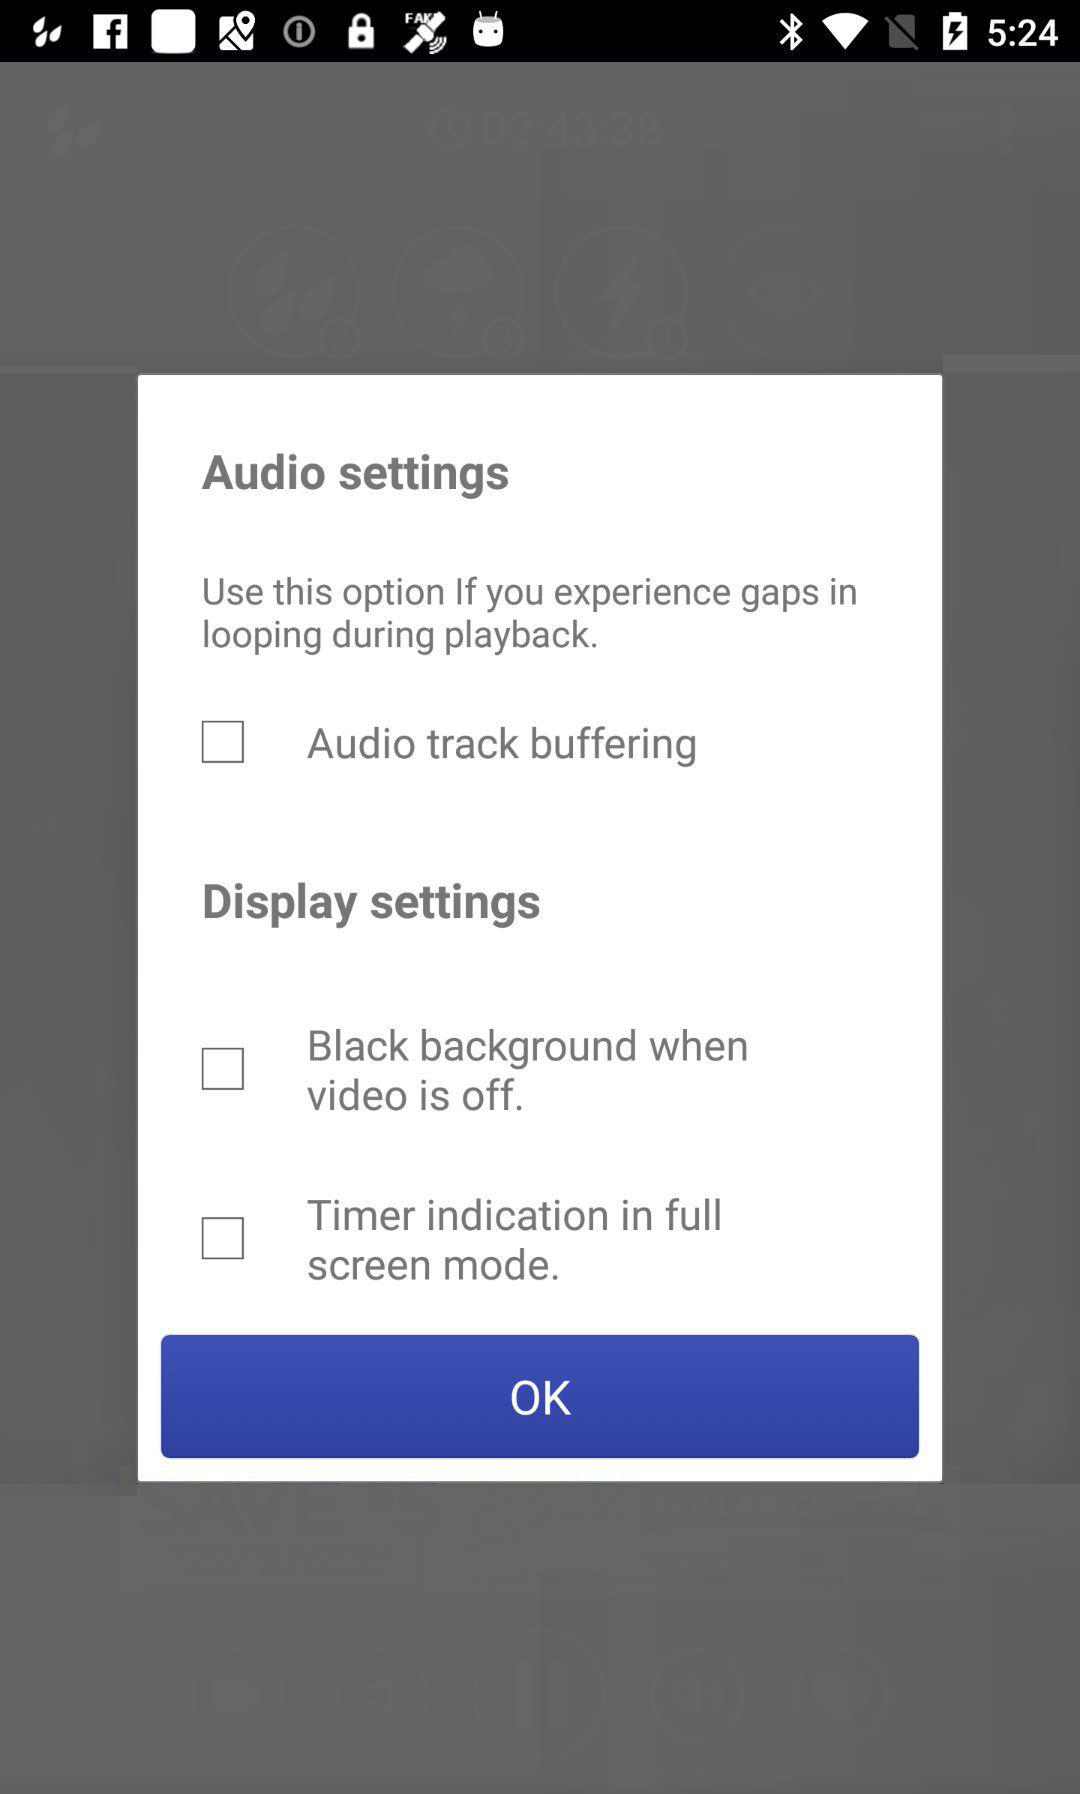CheckedTextView: (201, 1029, 749, 1114), (201, 1196, 723, 1284), (202, 721, 696, 768)
Modal: (135, 372, 945, 1484)
Text: (202, 577, 857, 657), (307, 1028, 748, 1112), (307, 1197, 723, 1281), (204, 882, 541, 930), (307, 727, 696, 768), (201, 452, 510, 501)
TextButton: (161, 1334, 920, 1460)
UpperTaskBar: (1, 1, 1080, 64)
